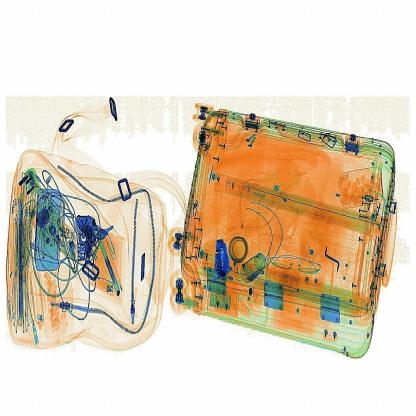scissors: (207, 231, 234, 286)
